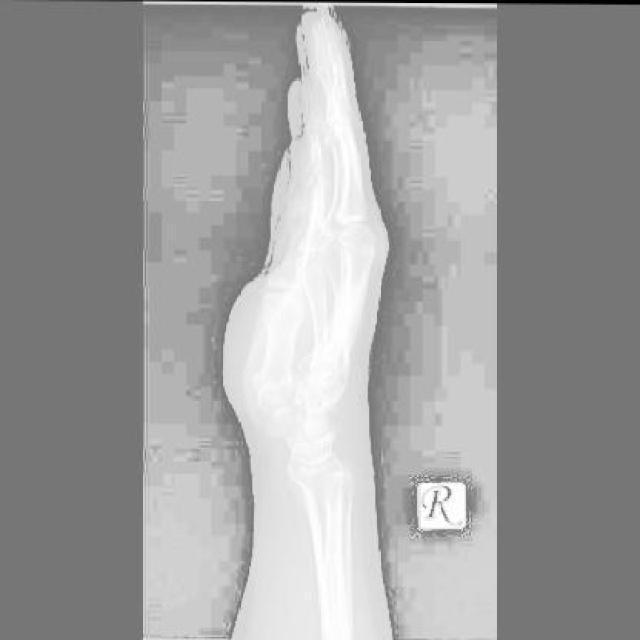Fracture: (326, 417, 342, 434)
